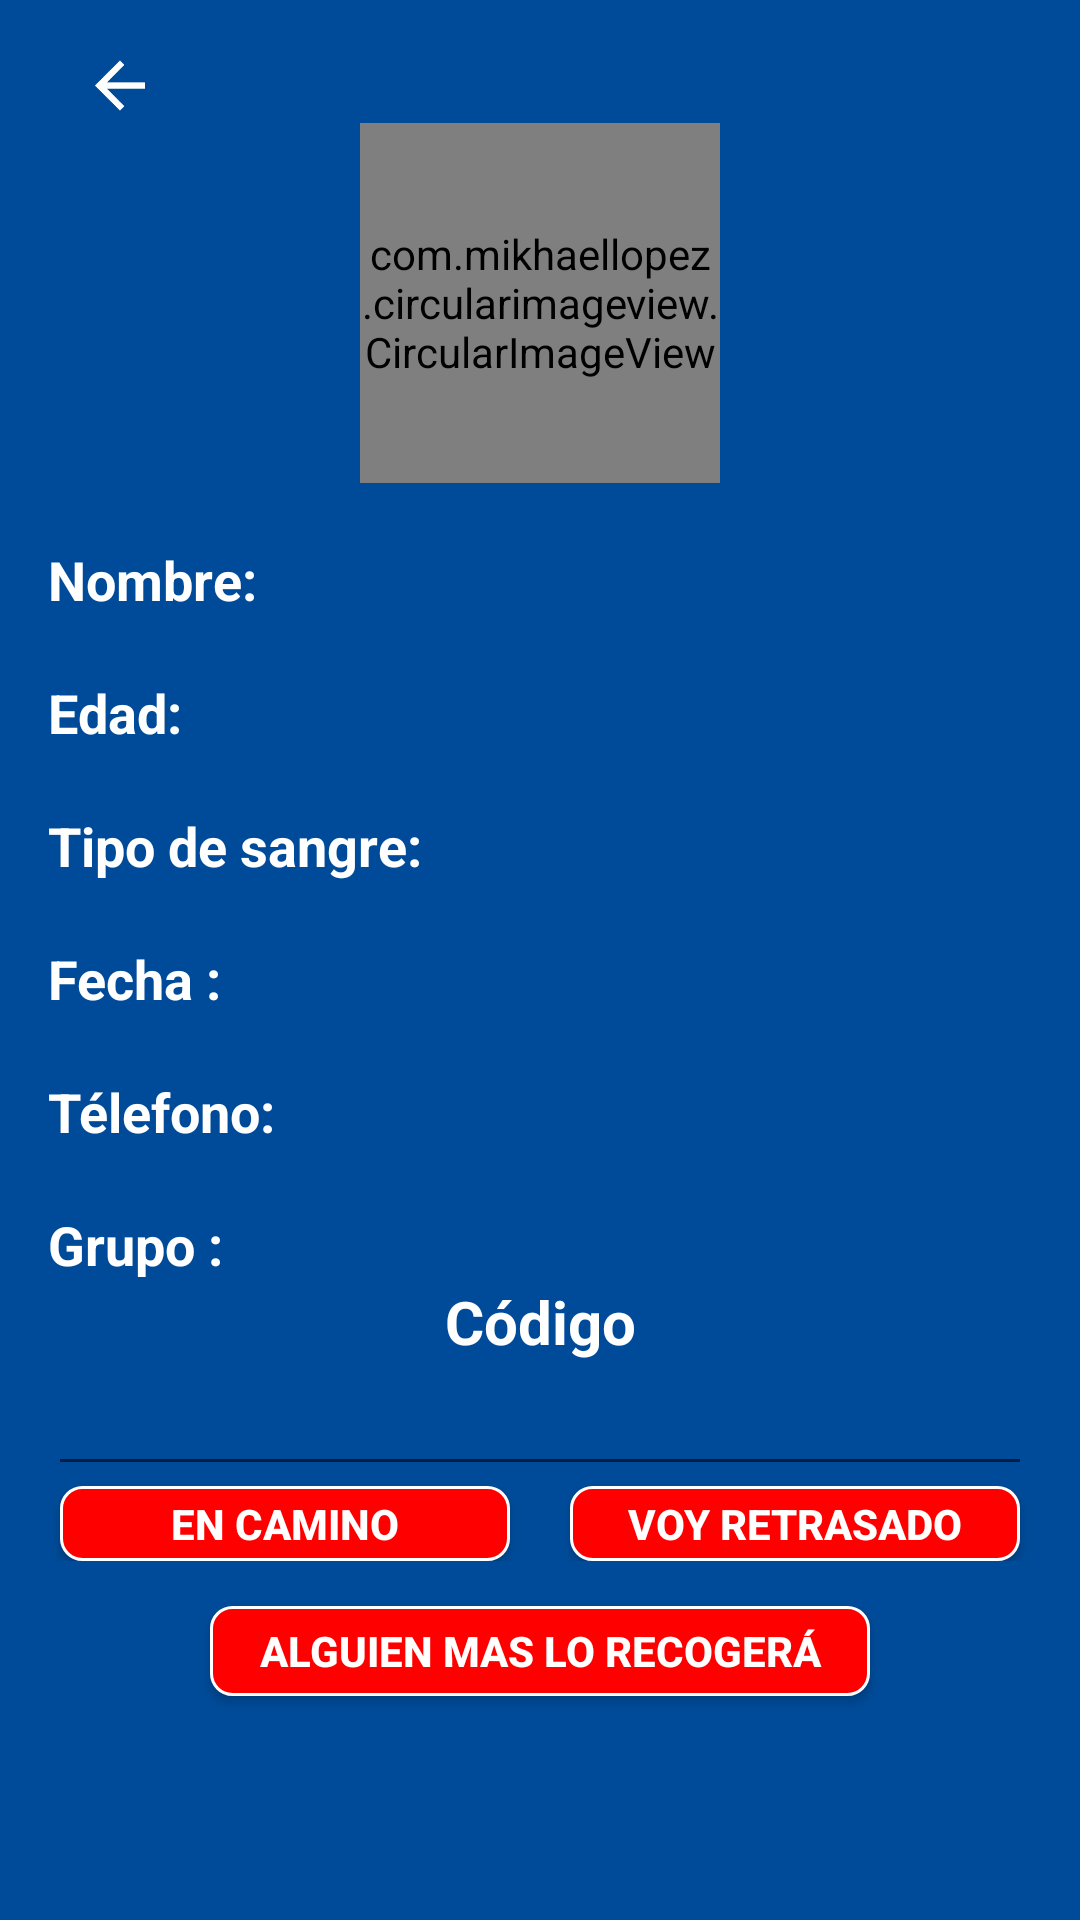

Icons on this 1080px×1920px Android screen, each with the point to tap as (x,y):
arrow back: (120,85)
